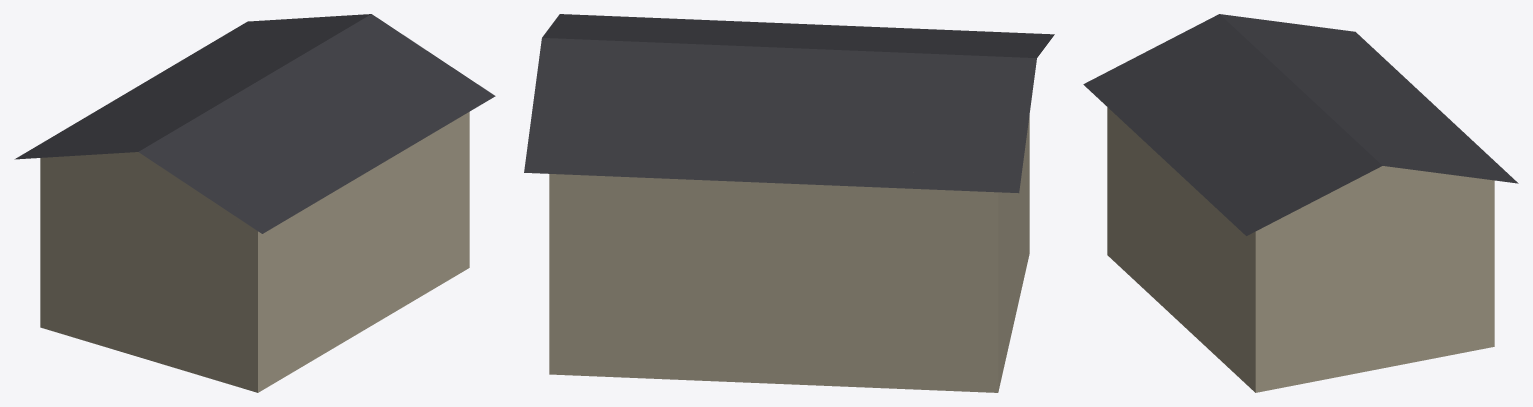
3 renders of one model, left to right at view 1: azimuth 30°, elevation 25°; view 2: azimuth 150°, elevation 25°; view 3: azimuth 270°, elevation 25°, orthographic. The views are drawn at different scales.
Visible parts, largest first — view 1: buildings; view 2: buildings; view 3: buildings.
Boxes of the visible parts, x1,y1,x2,y2 form: buildings: (14,14,495,392); buildings: (524,14,1054,392); buildings: (1083,14,1518,392).
Size of the model in its own units: 7.88 by 3.8 by 7.1.
